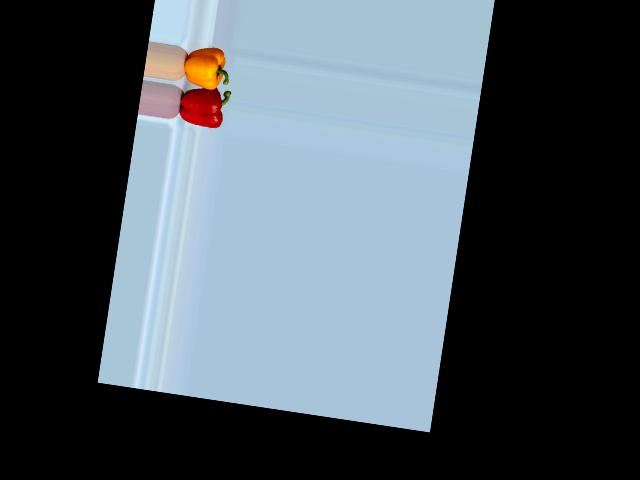bell_pepper: (171, 81, 229, 133)
